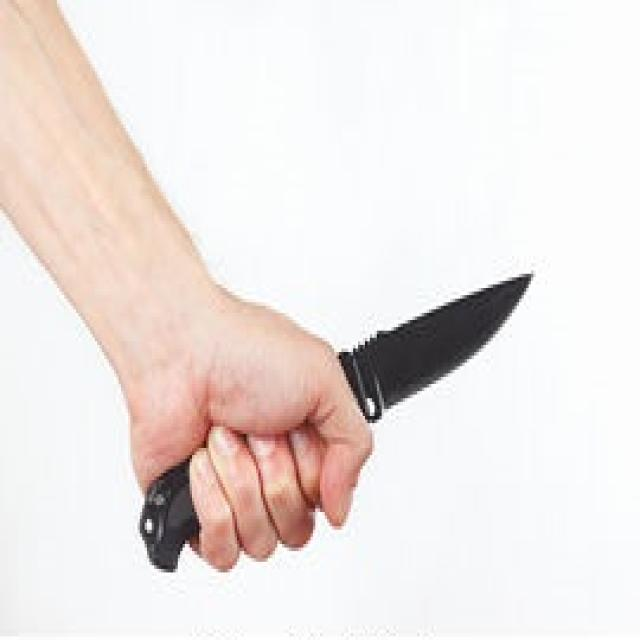knife: (133, 269, 553, 578)
